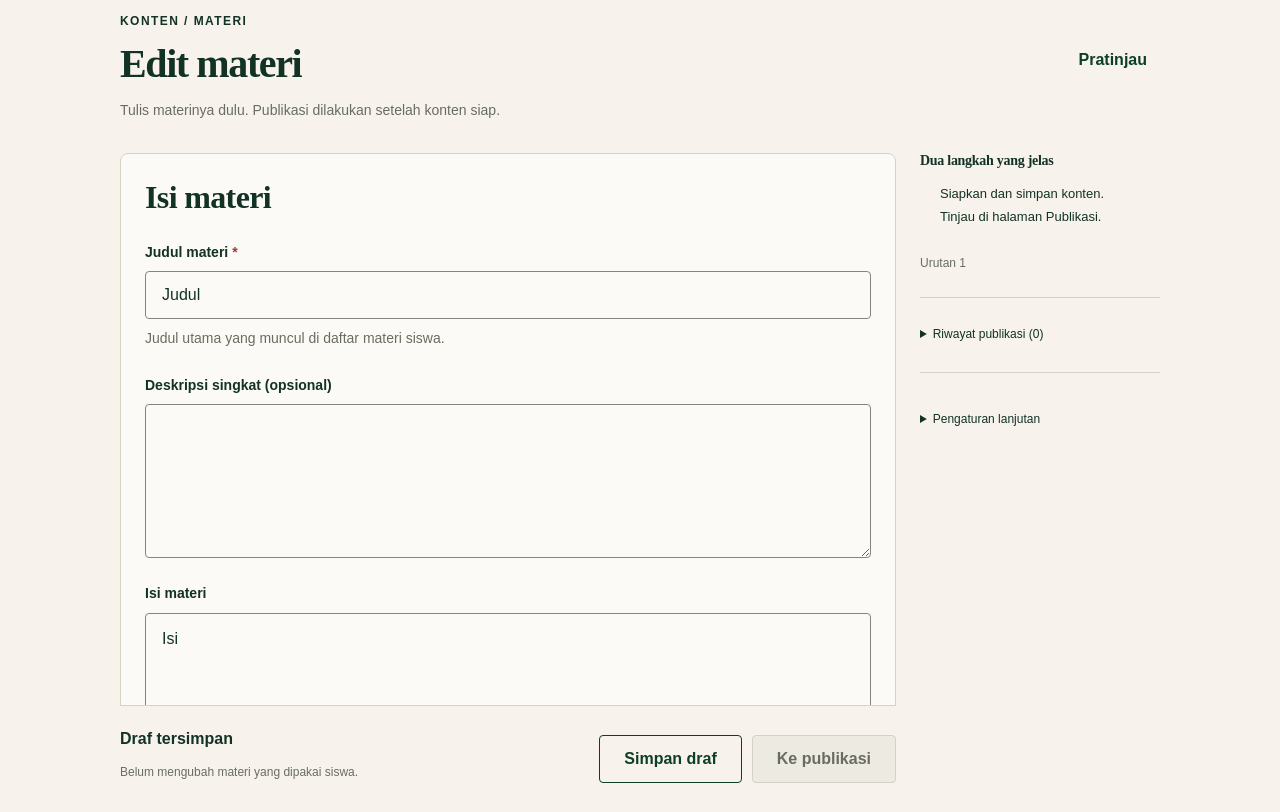
Test case: lesson draft save is not publication; revision conflict retains text and stable section identity
Replace the text in the field labelled "Judul materi *" with "Judul tetap" at {"x": 508, "y": 295}, box left=145, top=271, right=871, bottom=319
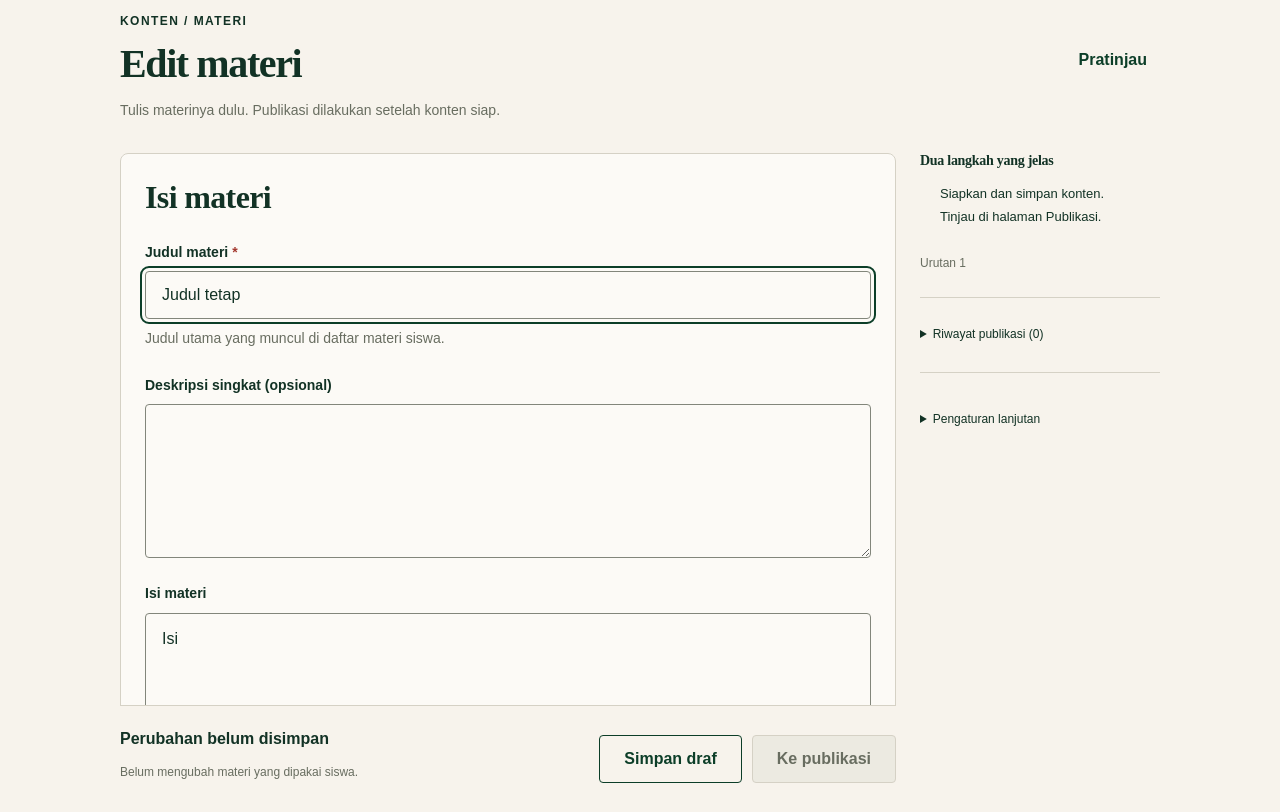
Click the button "Simpan draf" at {"x": 671, "y": 759}, box left=599, top=735, right=742, bottom=783
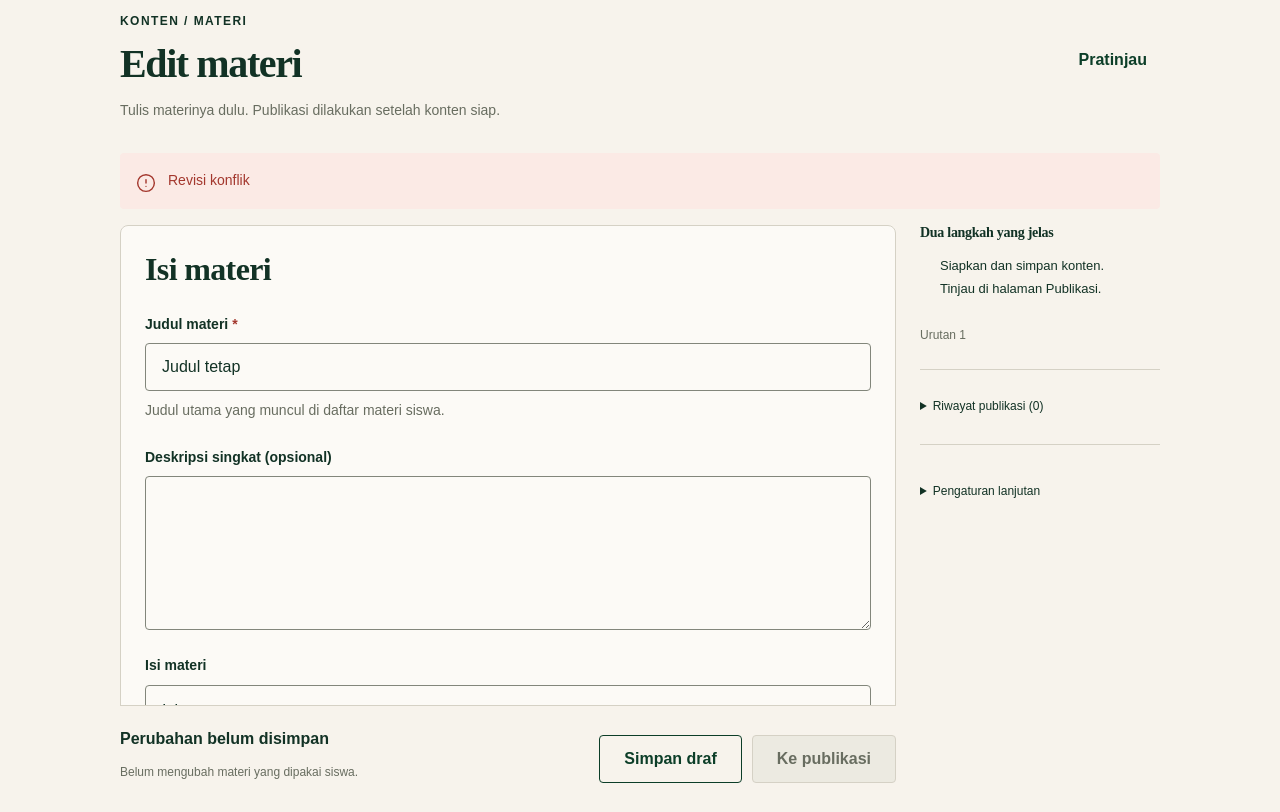
Expected: the message "Revisi konflik" is shown, left=120, top=153, right=1160, bottom=209
